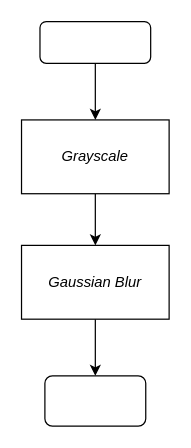
The diagram is 191 pixels wide and 448 high, and some of its shapes have lost their labels. The box of each missing label's shape, as (x1, y1, x2, y2) in pixels:
Mulai: (39, 20, 151, 63)
Selesai: (44, 375, 146, 426)
